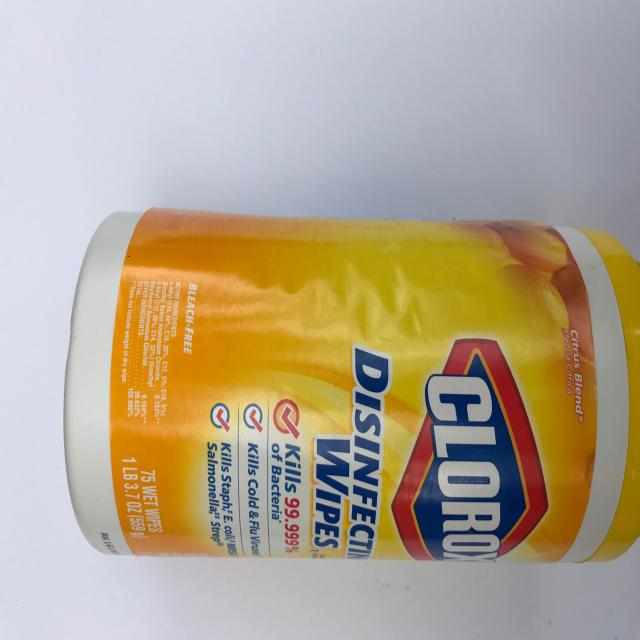plastic: (63, 206, 640, 563)
